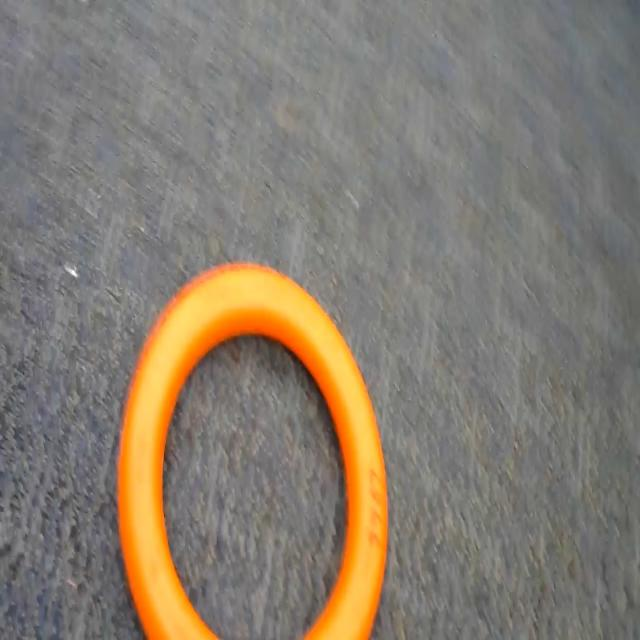note: (93, 229, 404, 640)
